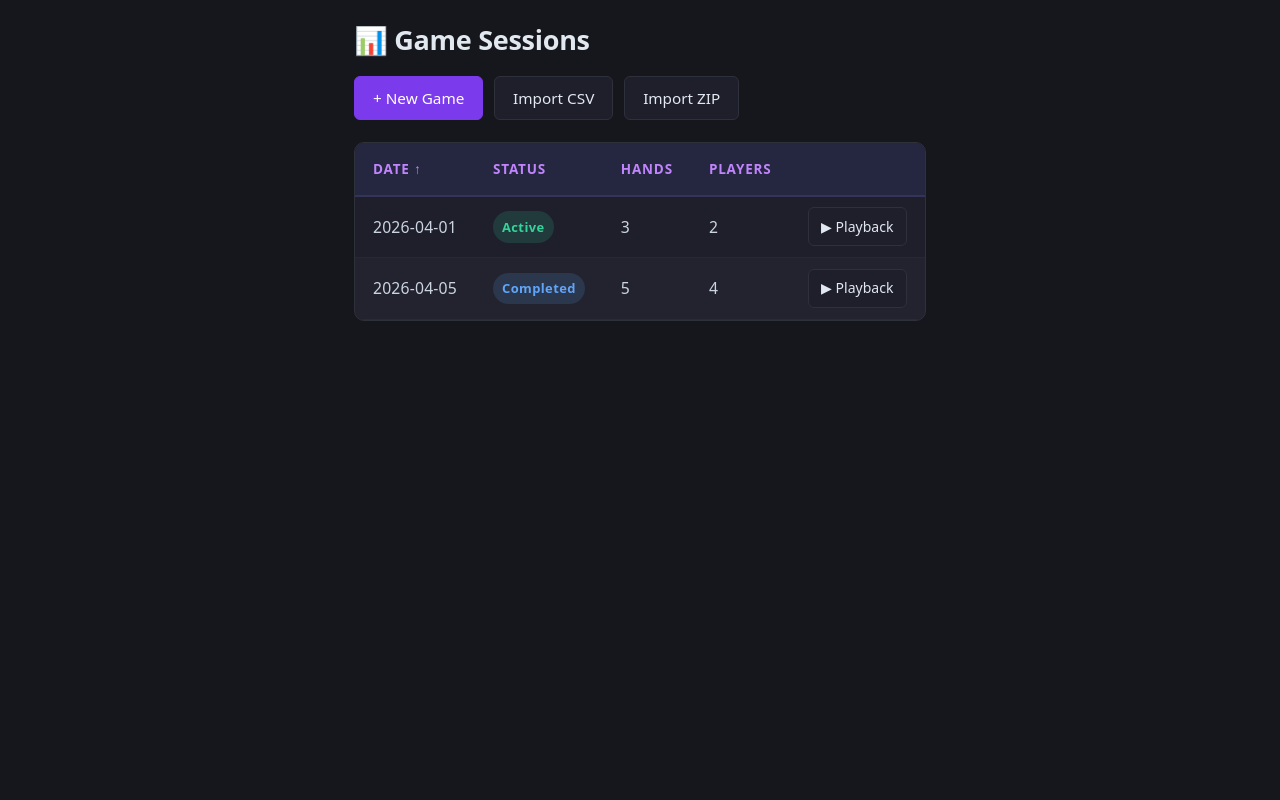
Test: DataView › opens create game modal on + New Game click
Check: the text "2026-04-01" is shown, box x1=355 y1=197 x2=475 y2=258
Click the button "+ New Game" at (419, 98), box x1=354 y1=76 x2=483 y2=120
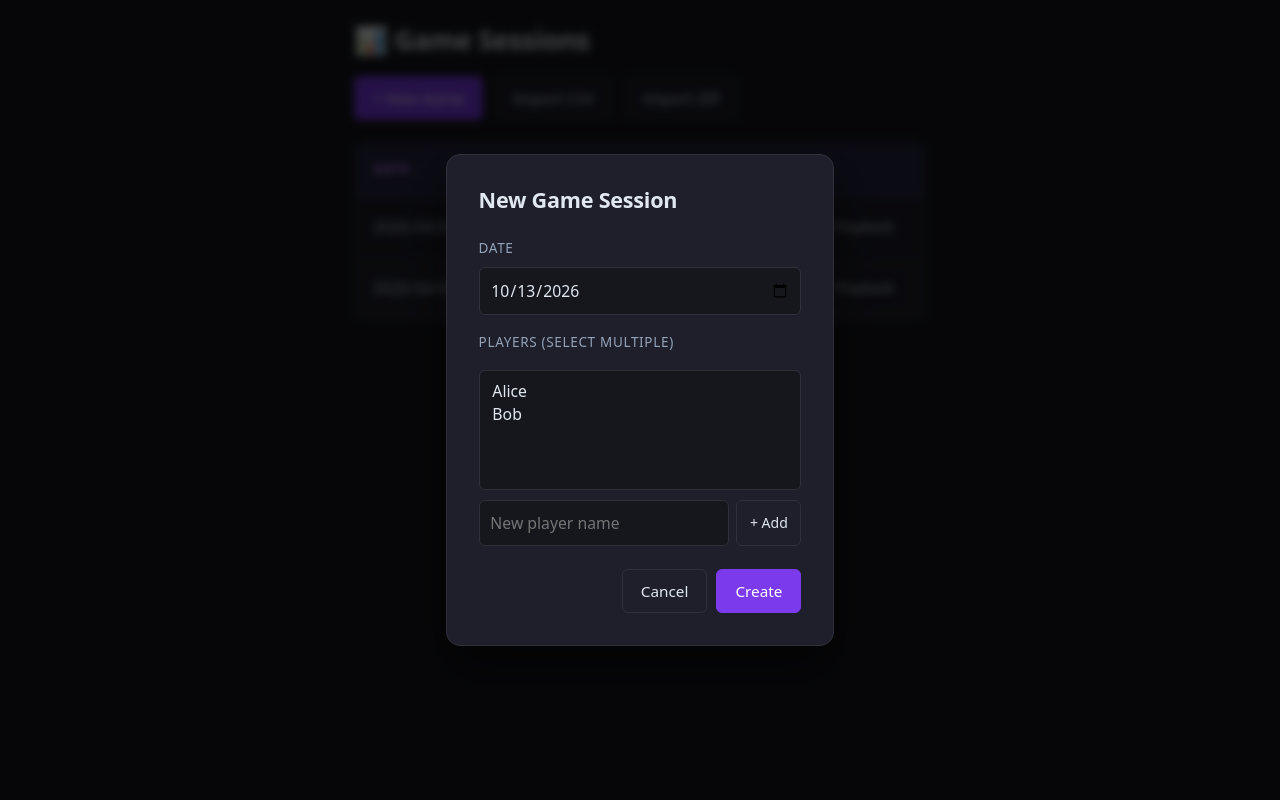
Check: the heading "New Game Session" is shown, box x1=479 y1=185 x2=677 y2=214
